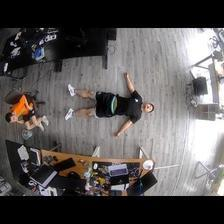fall: (64, 72, 156, 138)
normal: (4, 93, 49, 131)
